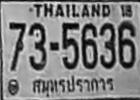3: (28, 22, 46, 69), (99, 22, 115, 68)
5: (62, 22, 78, 68)
6: (118, 20, 135, 68), (81, 22, 97, 68)
7: (8, 22, 25, 68)
SPK: (28, 73, 119, 98)
